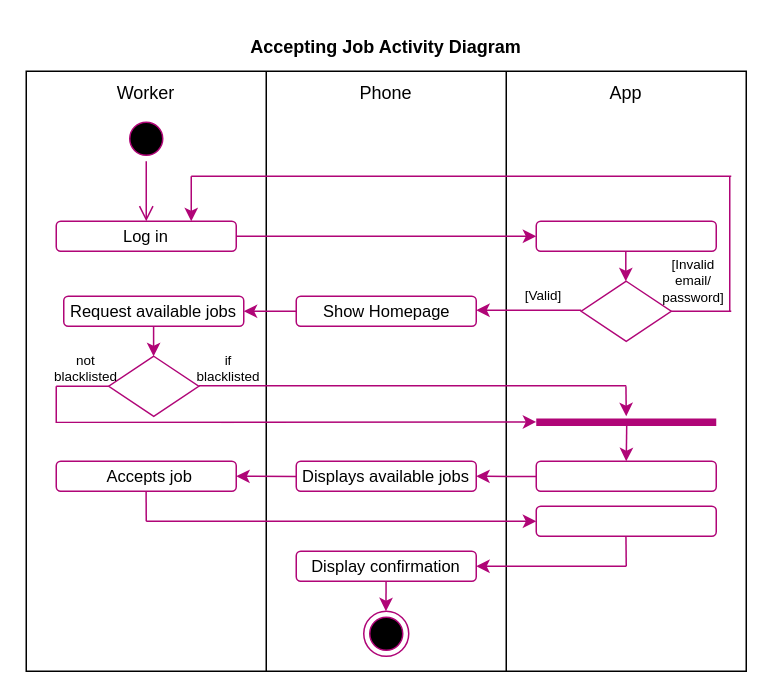
Image size: 773x699. Some labels were removed from this diagram. Here are the shapes that lost their labels. From the top down, the centre of each, then its label:
At [625,235]: "Authorize".
At [625,475]: "Queries database for available jobs".
At [625,520]: "Updates database".
